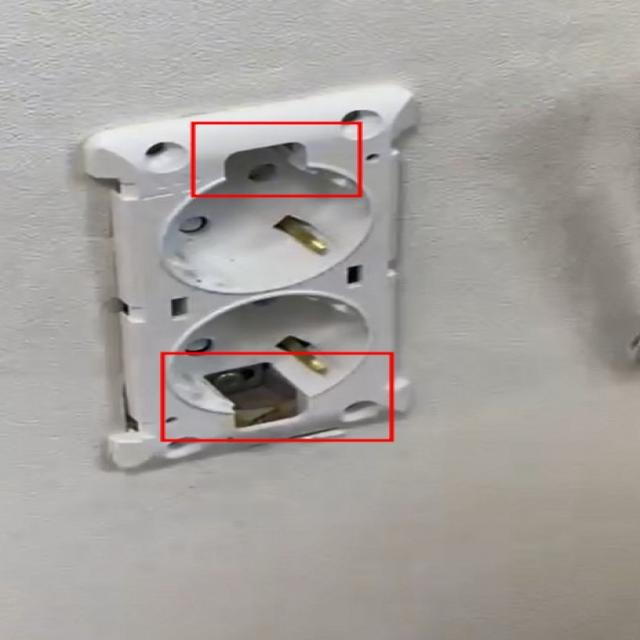typeb: (46, 71, 467, 481)
